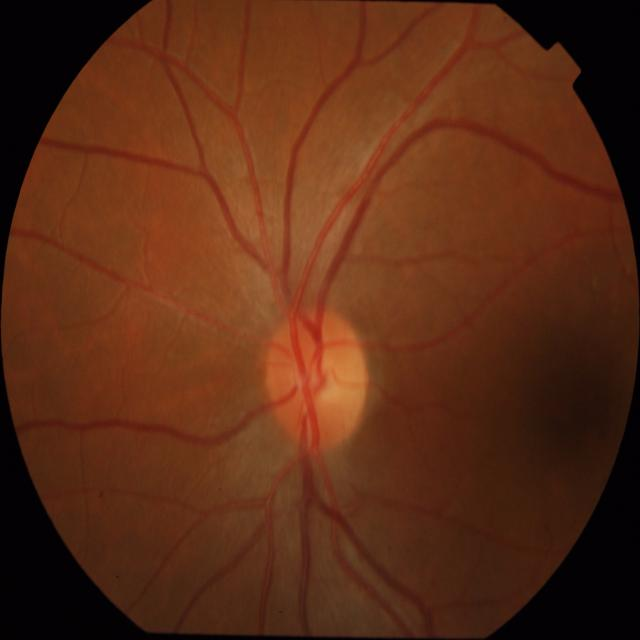OC: (292, 345, 344, 410)
OD: (263, 306, 369, 449)
